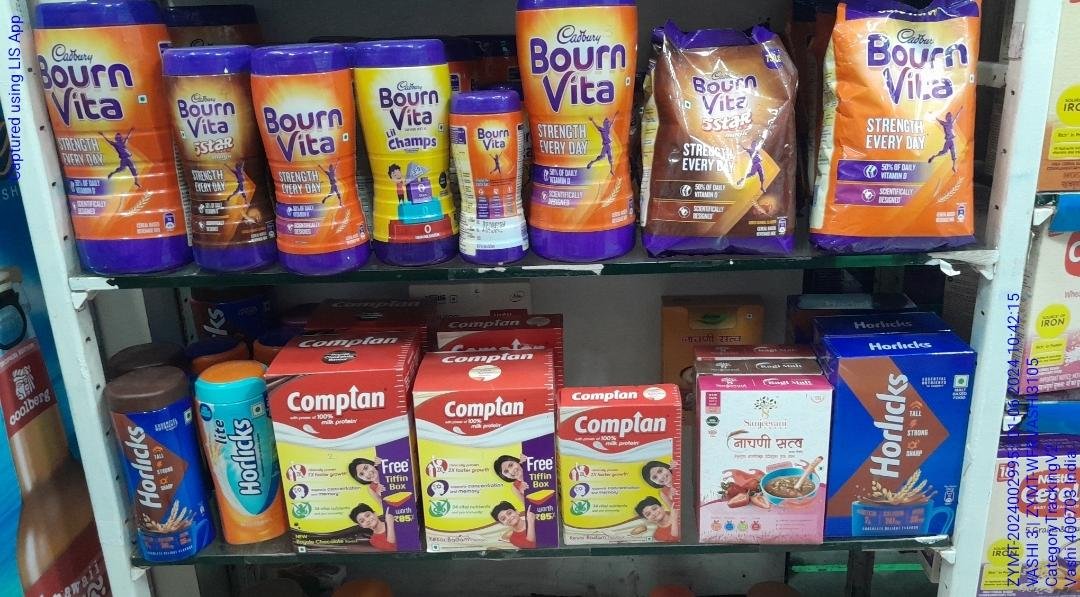BOURN_VITA_1_KG_JAR: (41, 0, 164, 276), (527, 1, 635, 261)
BOURN_VITA_200_G_JAR: (461, 92, 524, 265)
BOURN_VITA_500_G_JAR: (256, 45, 361, 282)
BOURN_VITA_750_G_POUCH: (831, 1, 984, 248)
BOURN_VITA_CHAMPS_500_G_JAR: (366, 40, 454, 266)
BOURN_VITA_FIVE_STAR_MAGIC_500_G_JAR: (167, 47, 255, 274)
BOURN_VITA_FIVE_STAR_MAGIC_750_G_POUCH: (651, 28, 798, 255)
COMPLAN_KESAR_BADAM_200_GMS_PACK: (556, 405, 681, 544)
HORLICKS_LITE_REGULAR_MALT_500_GM_JAR: (198, 381, 267, 549)
HORLICK_CHOCOLATE_500_G_JAR: (109, 390, 195, 564)
HORLICK_CHOCOLATE_500_G_PACK: (831, 356, 966, 541)
